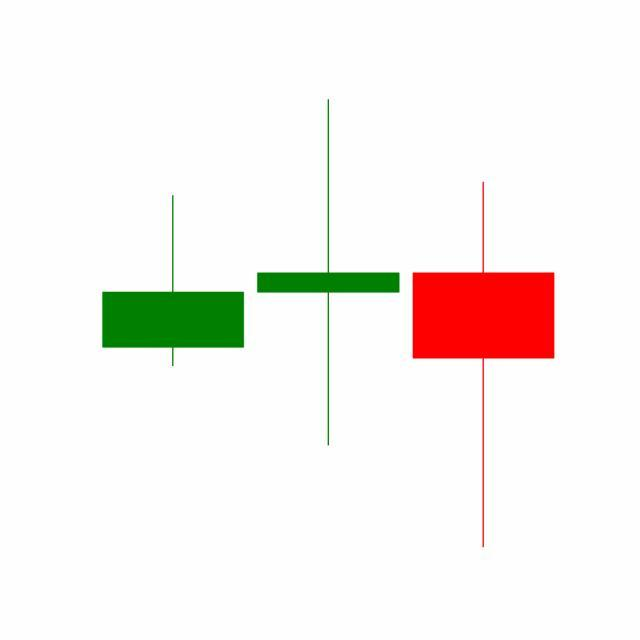Spinning Top: (250, 96, 407, 451)
